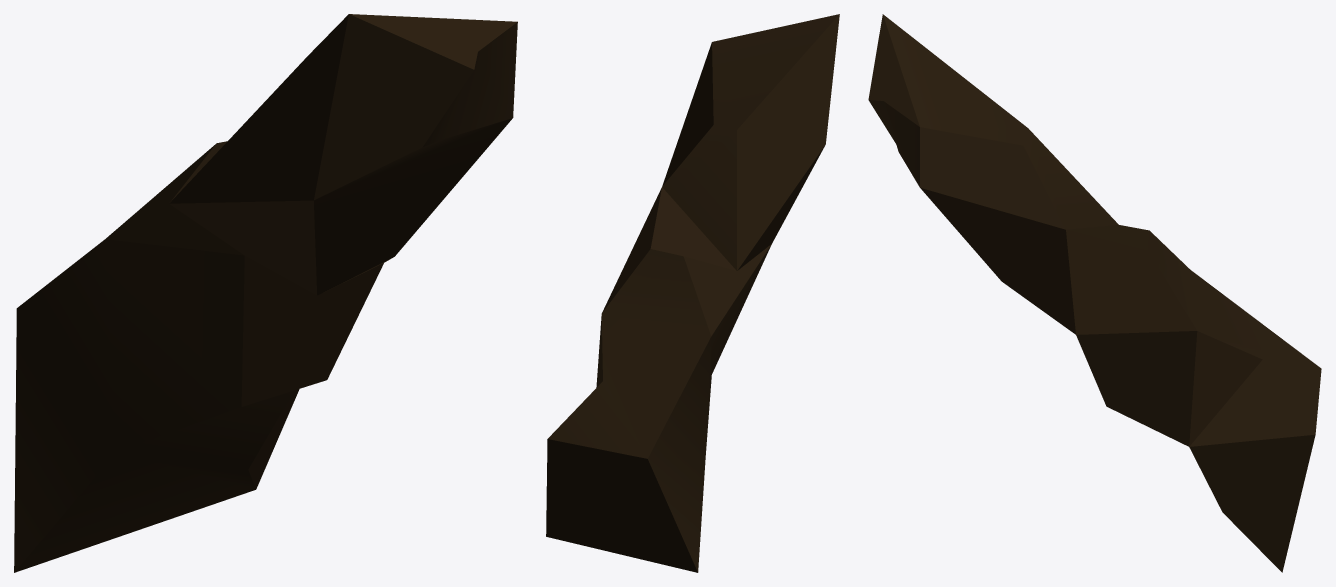
The model's file is detatched_pegasus_horn.fbx.
3 renders of one model, left to right at view 1: azimuth 30°, elevation 25°; view 2: azimuth 150°, elevation 25°; view 3: azimuth 270°, elevation 25°, orthographic. The views are drawn at different scales.
Visible parts, largest first — view 1: Horn Fragment; view 2: Horn Fragment; view 3: Horn Fragment.
Boxes of the visible parts, bbox=[...] form: Horn Fragment: bbox=[14, 14, 517, 572]; Horn Fragment: bbox=[546, 14, 839, 572]; Horn Fragment: bbox=[868, 14, 1321, 572].
Bounding box in the file's own units: 8.51 × 24.31 × 20.03.
